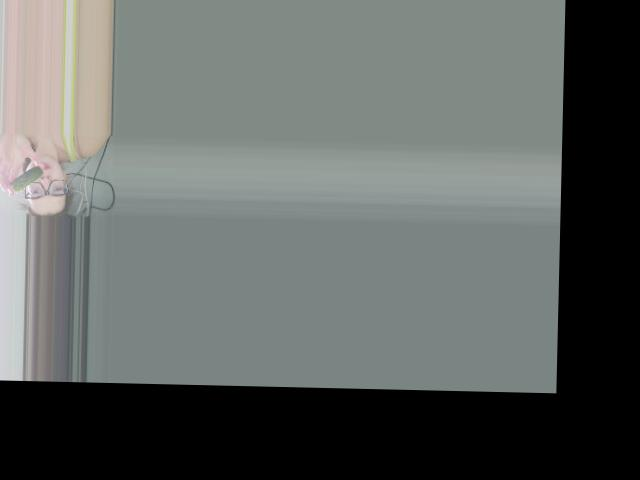cucumber: (11, 165, 43, 193)
